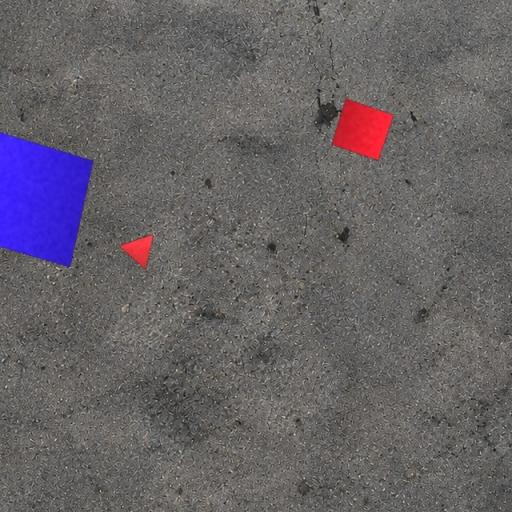BLUE_SQUARE: (0, 130, 94, 268)
RED_SQUARE: (330, 98, 394, 160)
